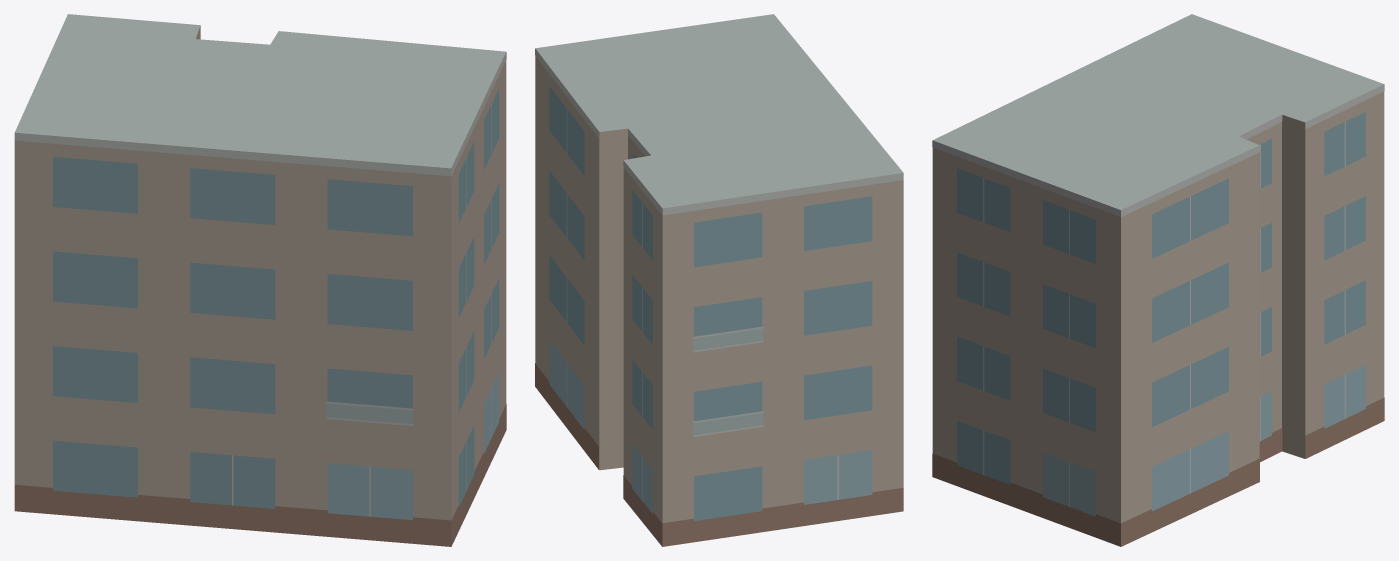
File: survey-upis-32892782.glb
3 views of the same model, side by side, from view 1: azimuth 30°, elevation 25°; view 2: azimuth 150°, elevation 25°; view 3: azimuth 270°, elevation 25° (orthographic). The views are drawn at different scales.
Visible parts, largest first — view 1: survey-upis-32892782.tmp; view 2: survey-upis-32892782.tmp; view 3: survey-upis-32892782.tmp.
Boxes of the visible parts, left/top/right/bottom form: survey-upis-32892782.tmp: left=14, top=14, right=506, bottom=546; survey-upis-32892782.tmp: left=535, top=14, right=903, bottom=546; survey-upis-32892782.tmp: left=932, top=14, right=1384, bottom=546.
Size of the model in its own units: 14.63 by 11.7 by 14.24.
